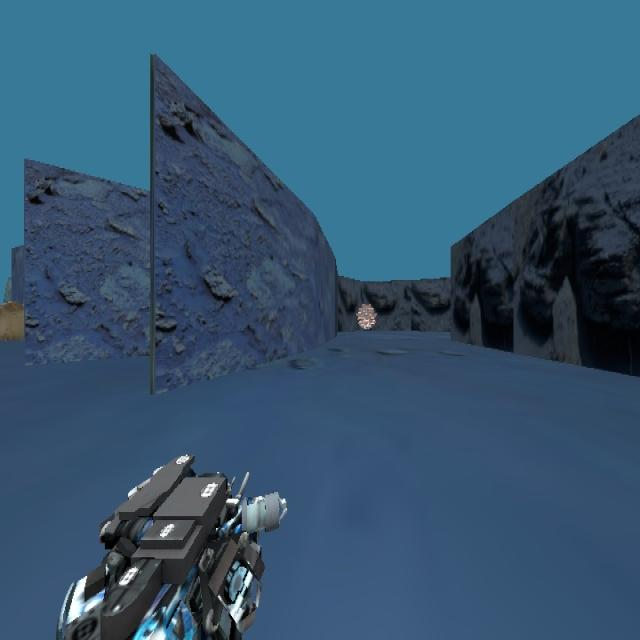Ice: (0, 293, 24, 342)
Mushroom: (355, 301, 377, 331)
